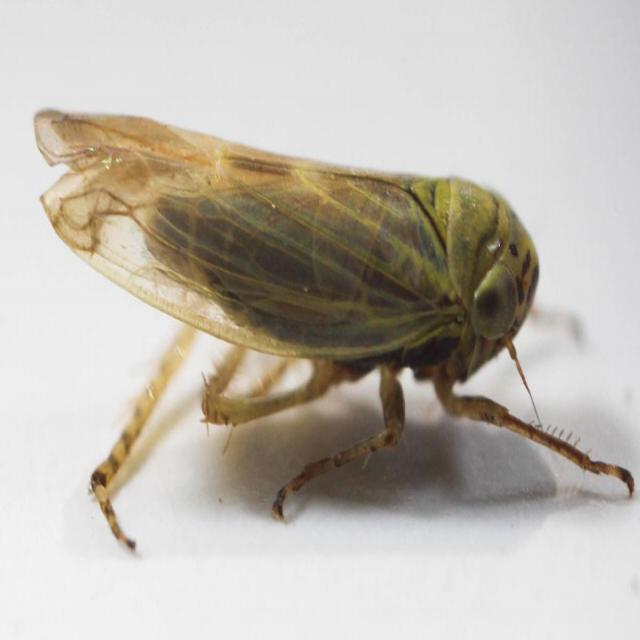Yechan: (10, 77, 600, 511)
